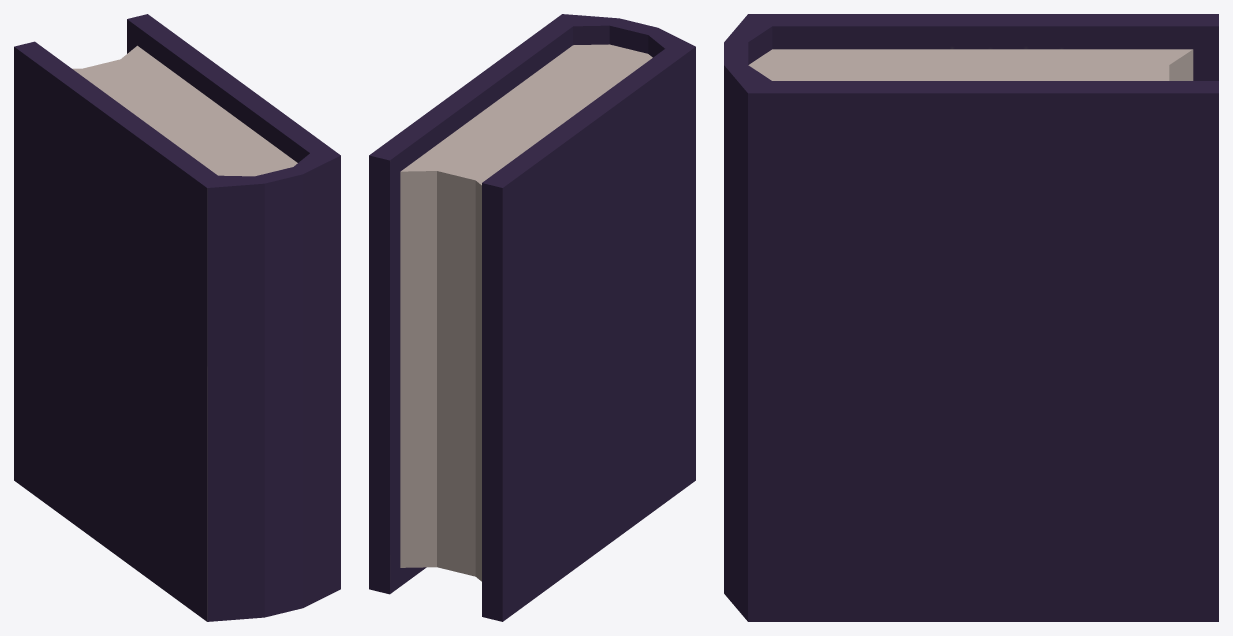
File: livre03.FBX
The picture shows the model from 3 angles, left to right: view 1: azimuth 30°, elevation 25°; view 2: azimuth 150°, elevation 25°; view 3: azimuth 270°, elevation 25°; orthographic projection. The views are drawn at different scales.
Parts seen in each view (by area): view 1: livre03; view 2: livre03; view 3: livre03.
Part boxes in pixels (x1=…): livre03: x1=14, y1=14, x2=340, y2=621; livre03: x1=369, y1=14, x2=695, y2=621; livre03: x1=724, y1=14, x2=1218, y2=621.
Size of the model in its own units: 7.3 by 22.64 by 19.2.
Materials: 1 (1 with a texture image).
